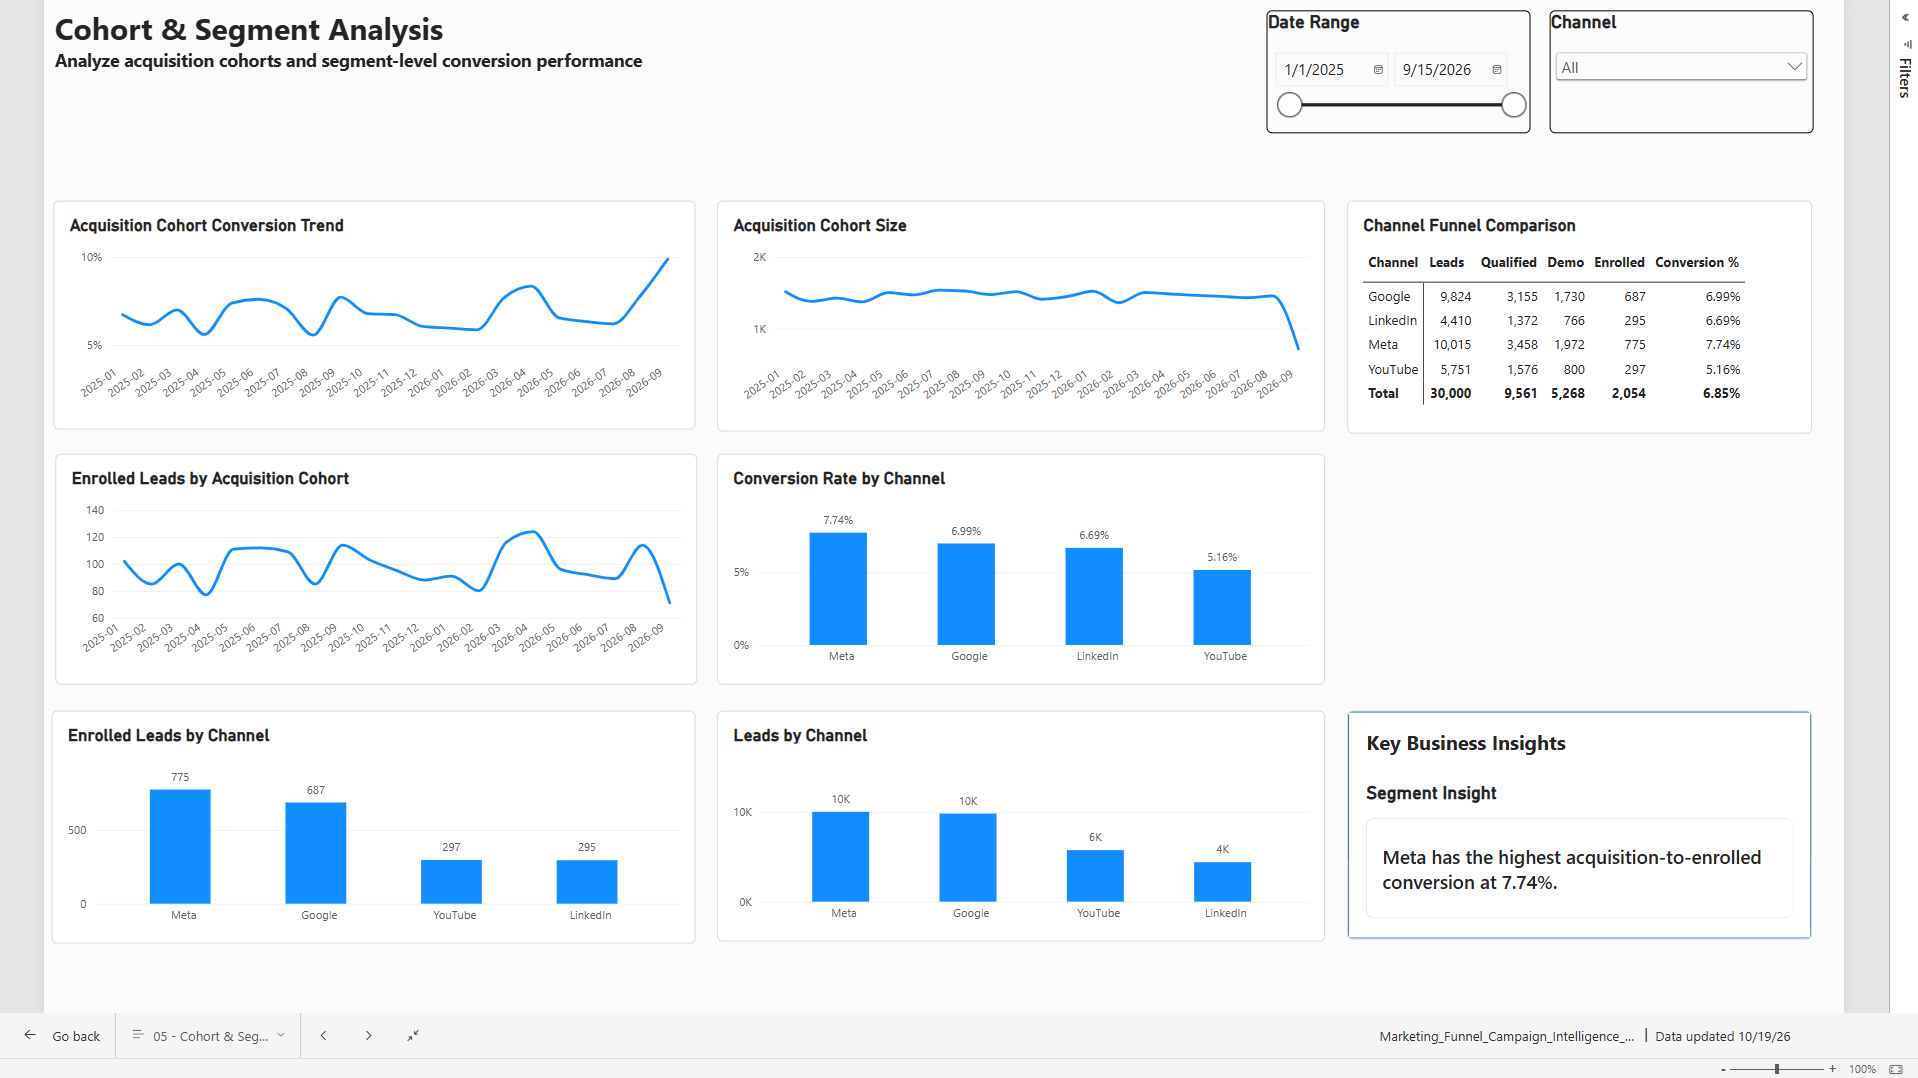

The dashboard page shown, as its layout file describes it:
{"tool":"powerbi","page":{"name":"05 - Cohort & Segment Analysis","canvas":[1920,1080],"ordinal":4},"visuals":[{"type":"slicer","title":"Channel","fields":{"Values":["DimCampaign.Channel"]},"box":[1606,11.1,281,131],"z":0},{"type":"slicer","title":"Date Range","fields":{"Values":["DimDate.Date"]},"box":[1304,11.1,281,131],"z":1000},{"type":"textbox","box":[11.1,9.3,1285.2,133.3],"z":2000},{"type":"lineChart","title":"Acquisition Cohort Conversion Trend","fields":{"Category":["DimDate.YearMonth"],"Y":["FactLeads.Cohort Conversion %"]},"box":[10,214,684,244],"z":3000},{"type":"lineChart","title":"Acquisition Cohort Size","fields":{"Category":["DimDate.YearMonth"],"Y":["FactLeads.Cohort Total Leads"]},"box":[718,214,648,246],"z":4000},{"type":"lineChart","title":"Enrolled Leads by Acquisition Cohort","fields":{"Category":["DimDate.YearMonth"],"Y":["FactLeads.Cohort Enrolled Leads"]},"box":[12,484,684,246],"z":5000},{"type":"clusteredColumnChart","title":"Conversion Rate by Channel","fields":{"Category":["DimCampaign.Channel"],"Y":["FactLeads.Cohort Conversion %"]},"box":[718,484,648,246],"z":6000},{"type":"clusteredColumnChart","title":"Enrolled Leads by Channel","fields":{"Category":["DimCampaign.Channel"],"Y":["FactLeads.Cohort Enrolled Leads"]},"box":[8,758,686,248],"z":7000},{"type":"clusteredColumnChart","title":"Leads by Channel","fields":{"Category":["DimCampaign.Channel"],"Y":["FactLeads.Cohort Total Leads"]},"box":[718,758,648,246],"z":8000},{"type":"pivotTable","title":"Channel Funnel Comparison","fields":{"Rows":["DimCampaign.Channel"],"Values":["FactLeads.Cohort Total Leads","FactLeads.Cohort Qualified Leads","FactLeads.Cohort Demo Leads","FactLeads.Cohort Enrolled Leads","FactLeads.Cohort Conversion %"]},"box":[1390,214,496,248],"z":9000},{"type":"shape","box":[1390,758,496,244],"z":10000},{"type":"textbox","box":[1410,776,431.8,36.4],"z":11000},{"type":"cardVisual","title":"Segment Insight","fields":{"Data":["FactLeads.KBI Top Channel Conversion"]},"box":[1410,834,456,146],"z":12000}]}

Visuals, with their boxes on the page's 1920x1080 design canvas (x1, y1, x2, y2). These are canvas units, not pixel positions in the 1918x1078 screenshot, which may show the page scaled, cropped or inside an application window:
"Channel" slicer: [x1=1606, y1=11, x2=1887, y2=142]
"Date Range" slicer: [x1=1304, y1=11, x2=1585, y2=142]
textbox: [x1=11, y1=9, x2=1296, y2=143]
"Acquisition Cohort Conversion Trend" lineChart: [x1=10, y1=214, x2=694, y2=458]
"Acquisition Cohort Size" lineChart: [x1=718, y1=214, x2=1366, y2=460]
"Enrolled Leads by Acquisition Cohort" lineChart: [x1=12, y1=484, x2=696, y2=730]
"Conversion Rate by Channel" clusteredColumnChart: [x1=718, y1=484, x2=1366, y2=730]
"Enrolled Leads by Channel" clusteredColumnChart: [x1=8, y1=758, x2=694, y2=1006]
"Leads by Channel" clusteredColumnChart: [x1=718, y1=758, x2=1366, y2=1004]
"Channel Funnel Comparison" pivotTable: [x1=1390, y1=214, x2=1886, y2=462]
shape: [x1=1390, y1=758, x2=1886, y2=1002]
textbox: [x1=1410, y1=776, x2=1842, y2=812]
"Segment Insight" cardVisual: [x1=1410, y1=834, x2=1866, y2=980]
